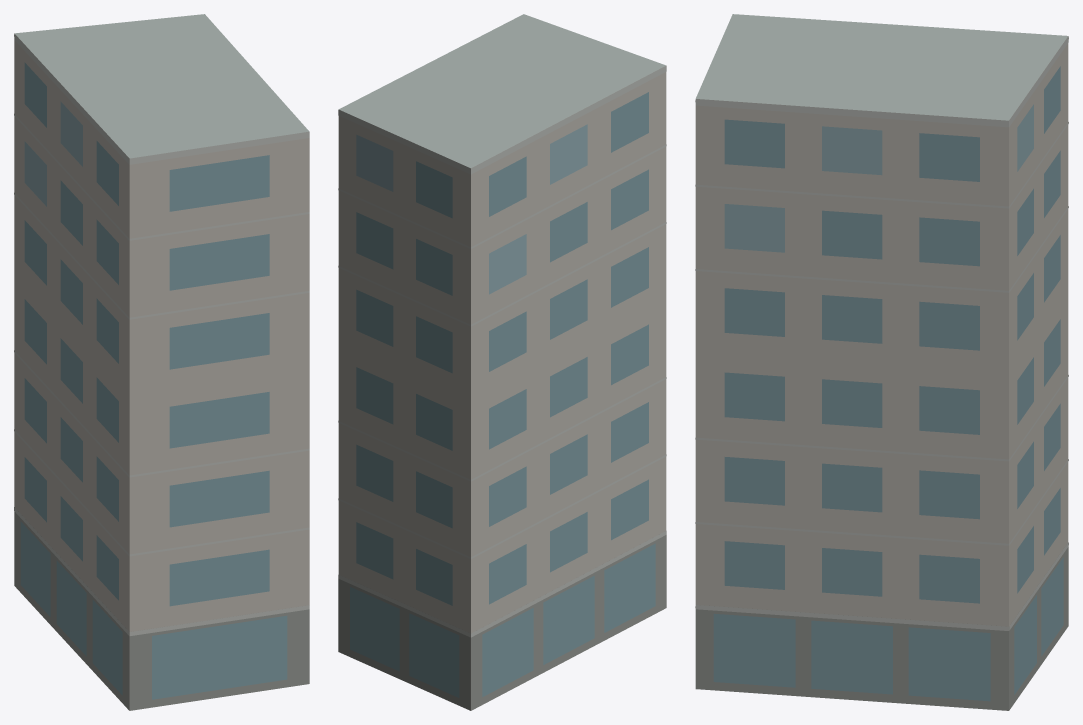
File: survey-upis-32949020.glb
The picture shows the model from 3 angles, left to right: view 1: azimuth 30°, elevation 25°; view 2: azimuth 150°, elevation 25°; view 3: azimuth 270°, elevation 25°; orthographic projection. The views are drawn at different scales.
Parts seen in each view (by area): view 1: survey-upis-32949020.tmp; view 2: survey-upis-32949020.tmp; view 3: survey-upis-32949020.tmp.
Boxes of the visible parts, left/top/right/bottom form: survey-upis-32949020.tmp: left=14, top=14, right=309, bottom=710; survey-upis-32949020.tmp: left=338, top=14, right=666, bottom=710; survey-upis-32949020.tmp: left=695, top=14, right=1068, bottom=710.
Bounding box in the file's own units: 8.3 × 21.35 × 12.25.
